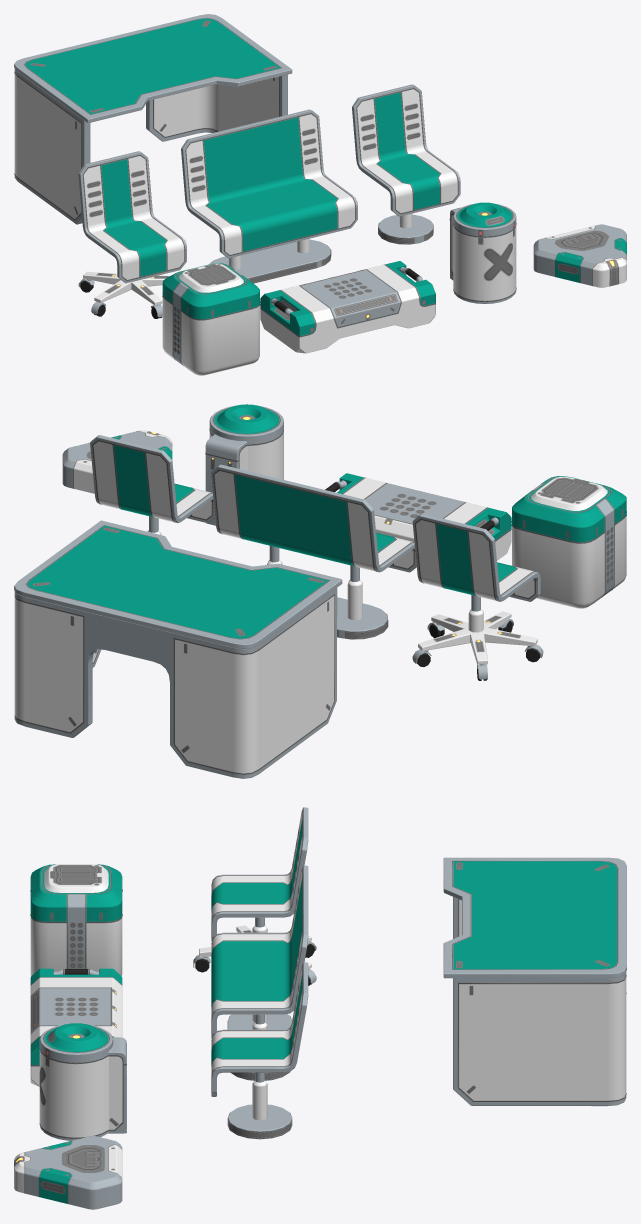
File: furniture_pack.glb
3 renders of one model, top to bottom at view 1: azimuth 30°, elevation 25°; view 2: azimuth 150°, elevation 25°; view 3: azimuth 270°, elevation 25°, orthographic. The views are drawn at different scales.
Visible parts, largest first — view 1: Table001_Color3_0, Chair003_Color3_0, Table001_Color2_0, Container001_d_Decals_0, Table001_Color1_0, Chair001_Color2_0, Container002_Color2_0, Chair003_Color1_0, Chair003_Color2_0, Container003_Color2_0, Chair002_Color2_0, Chair001_Color3_0 (+17 smaller); view 2: Table001_Color2_0, Table001_Color3_0, Container001_d_Decals_0, Table001_Color1_0, Chair003_Color3_0, Chair001_Color2_0, Chair003_Color2_0, Chair003_Color1_0, Table001_d, Chair002_Color2_0, Chair001_Color3_0, Chair002_Color3_0 (+16 smaller); view 3: Table001_Color2_0, Table001_Color3_0, Container001_d_Decals_0, Table001_Color1_0, Container003_Color2_0, Chair003_Color3_0, Container004_Color1_0, Chair002_Color1_0, Table001_d, Container002_Color1_0, Chair003_Color1_0, Chair002_Color2_0 (+17 smaller).
Boxes of the visible parts, x1=… form: Table001_Color3_0: x1=25, y1=18, x2=280, y2=114; Chair003_Color3_0: x1=204, y1=117, x2=337, y2=251; Table001_Color2_0: x1=14, y1=74, x2=278, y2=218; Container001_d_Decals_0: x1=162, y1=263, x2=260, y2=375; Table001_Color1_0: x1=14, y1=14, x2=292, y2=224; Chair001_Color2_0: x1=83, y1=156, x2=184, y2=305; Container002_Color2_0: x1=260, y1=265, x2=435, y2=353; Chair003_Color1_0: x1=181, y1=109, x2=357, y2=283; Chair003_Color2_0: x1=186, y1=114, x2=354, y2=269; Container003_Color2_0: x1=451, y1=215, x2=516, y2=300; Chair002_Color2_0: x1=357, y1=89, x2=457, y2=228; Chair001_Color3_0: x1=101, y1=159, x2=166, y2=276; Table001_Color2_0: x1=14, y1=596, x2=334, y2=773; Table001_Color3_0: x1=27, y1=526, x2=328, y2=638; Container001_d_Decals_0: x1=511, y1=476, x2=626, y2=608; Table001_Color1_0: x1=14, y1=520, x2=342, y2=778; Chair003_Color3_0: x1=235, y1=474, x2=395, y2=566; Chair001_Color2_0: x1=416, y1=520, x2=537, y2=664; Chair003_Color2_0: x1=214, y1=471, x2=413, y2=620; Chair003_Color1_0: x1=211, y1=464, x2=416, y2=639; Table001_d: x1=14, y1=525, x2=335, y2=774; Chair002_Color2_0: x1=93, y1=441, x2=211, y2=534; Chair001_Color3_0: x1=436, y1=524, x2=516, y2=595; Chair002_Color3_0: x1=114, y1=445, x2=193, y2=516; Table001_Color2_0: x1=459, y1=899, x2=626, y2=1100; Table001_Color3_0: x1=453, y1=861, x2=616, y2=969; Container001_d_Decals_0: x1=30, y1=864, x2=122, y2=975; Table001_Color1_0: x1=443, y1=857, x2=626, y2=1106; Container003_Color2_0: x1=39, y1=1049, x2=122, y2=1137; Chair003_Color3_0: x1=211, y1=879, x2=302, y2=1006; Container004_Color1_0: x1=25, y1=1136, x2=122, y2=1209; Chair002_Color1_0: x1=211, y1=962, x2=308, y2=1139; Table001_d: x1=452, y1=860, x2=626, y2=1102; Container002_Color1_0: x1=30, y1=969, x2=110, y2=1033; Chair003_Color1_0: x1=211, y1=865, x2=308, y2=1080; Chair002_Color2_0: x1=211, y1=967, x2=302, y2=1120.
Size of the model in its own units: 4.3 by 1.12 by 4.17.
5 materials, 1 textured.
